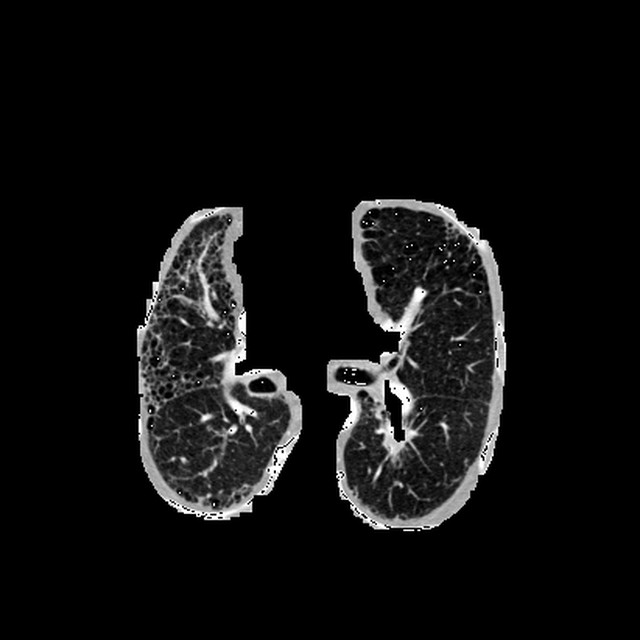PN: (383, 427, 411, 455)
